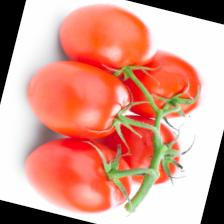tomato: (13, 126, 140, 224), (17, 51, 138, 150), (99, 37, 212, 129), (49, 0, 165, 87), (86, 106, 192, 194)
